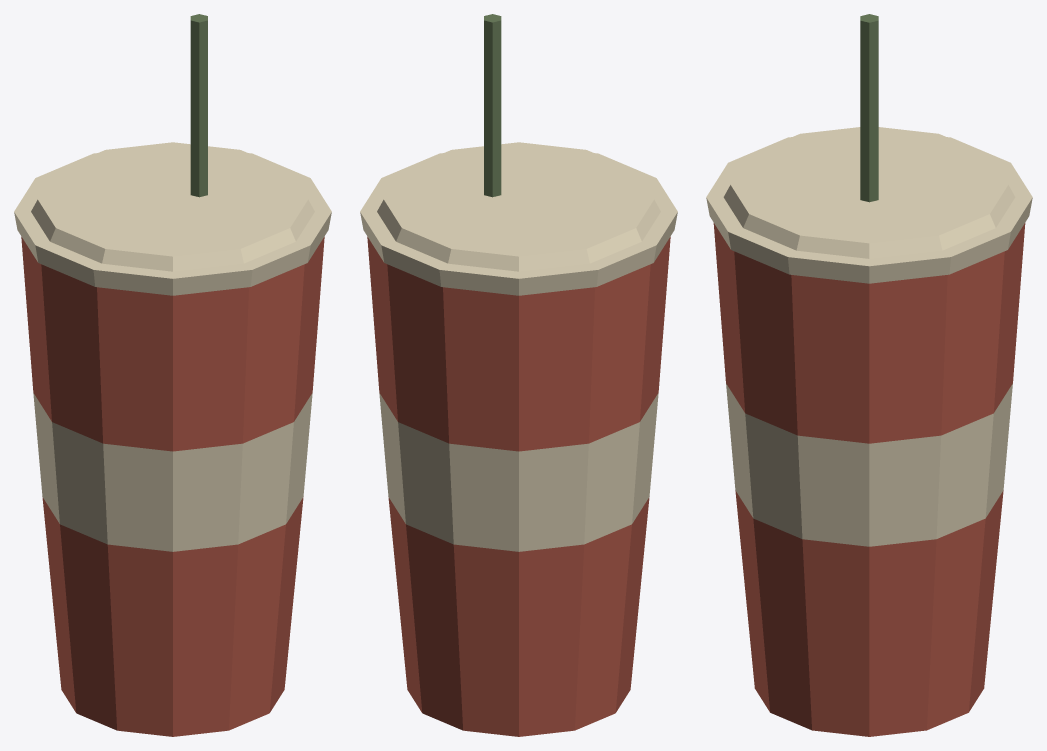
The model's file is lwf_litter_soft_cup_v1.glb.
3 renders of one model, left to right at view 1: azimuth 30°, elevation 25°; view 2: azimuth 150°, elevation 25°; view 3: azimuth 270°, elevation 25°, orthographic. The views are drawn at different scales.
Visible parts, largest first — view 1: LWF_Litter_Soft_Cup_V1; view 2: LWF_Litter_Soft_Cup_V1; view 3: LWF_Litter_Soft_Cup_V1.
Part boxes in pixels (box(x1,y1,x2,y2)): LWF_Litter_Soft_Cup_V1: box(14, 14, 331, 736); LWF_Litter_Soft_Cup_V1: box(360, 14, 677, 736); LWF_Litter_Soft_Cup_V1: box(706, 14, 1032, 736).
Bounding box in the file's own units: 0.094 × 0.217 × 0.094.
1 material, 1 textured.
